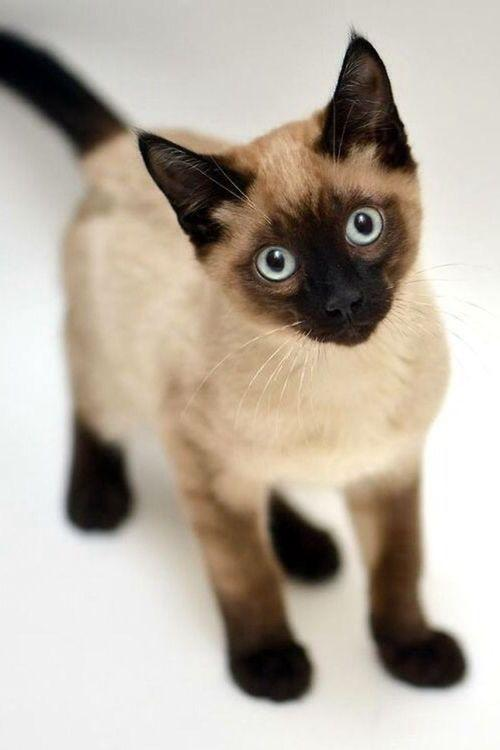siamese: (137, 29, 443, 371)
